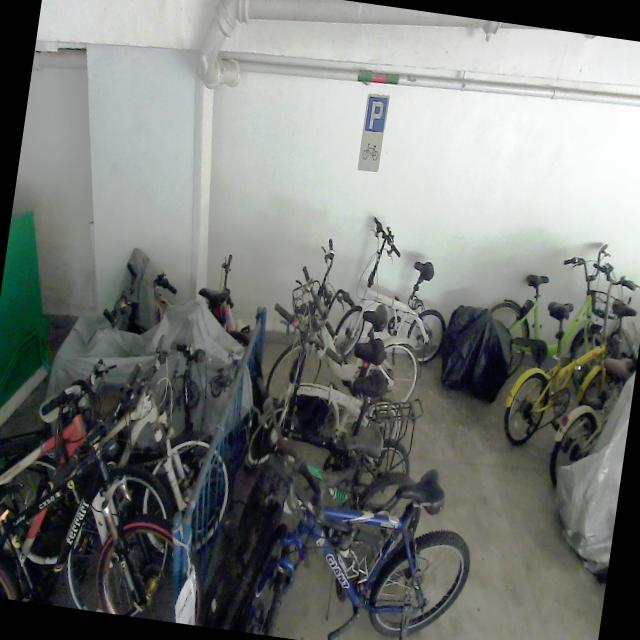bike: (0, 315, 249, 596), (0, 345, 233, 624), (0, 345, 195, 621), (213, 440, 482, 640), (238, 356, 422, 546), (245, 299, 416, 486), (264, 232, 435, 418), (476, 230, 638, 413), (501, 251, 640, 457), (332, 212, 460, 370)
